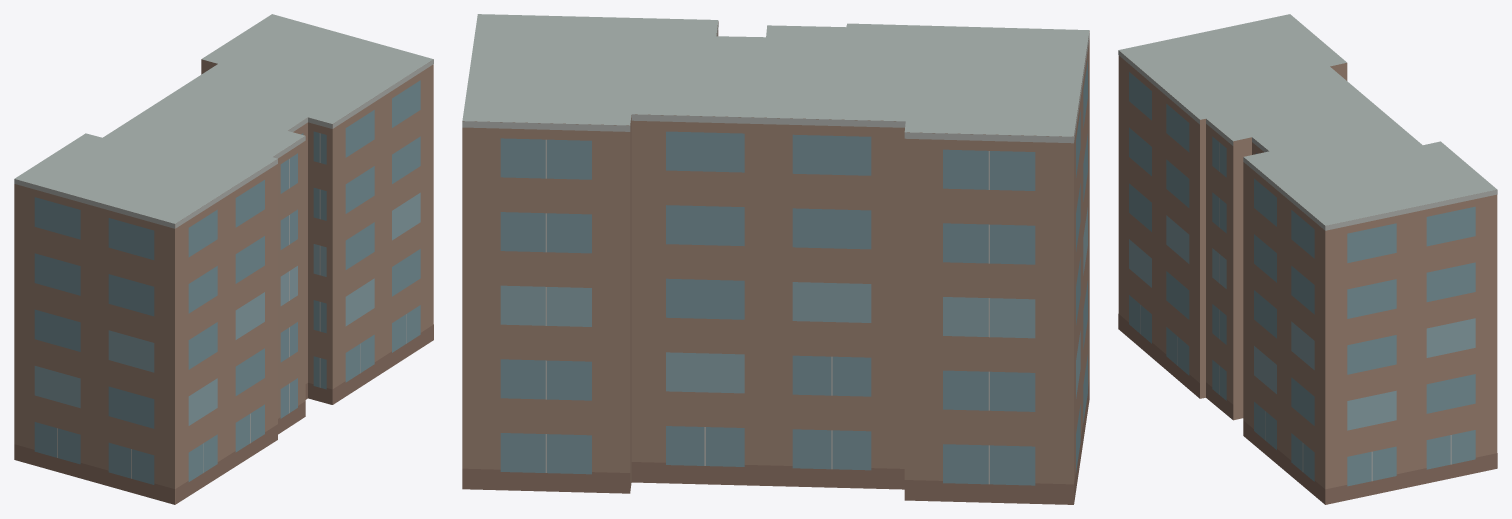
File: survey-upis-32933347.glb
The picture shows the model from 3 angles, left to right: view 1: azimuth 30°, elevation 25°; view 2: azimuth 150°, elevation 25°; view 3: azimuth 270°, elevation 25°; orthographic projection. The views are drawn at different scales.
Parts seen in each view (by area): view 1: survey-upis-32933347.tmp; view 2: survey-upis-32933347.tmp; view 3: survey-upis-32933347.tmp.
Boxes of the visible parts, x1=… form: survey-upis-32933347.tmp: x1=14, y1=14, x2=433, y2=504; survey-upis-32933347.tmp: x1=462, y1=14, x2=1089, y2=504; survey-upis-32933347.tmp: x1=1118, y1=14, x2=1497, y2=504.
Size of the model in its own units: 22.65 by 13.9 by 17.12.
